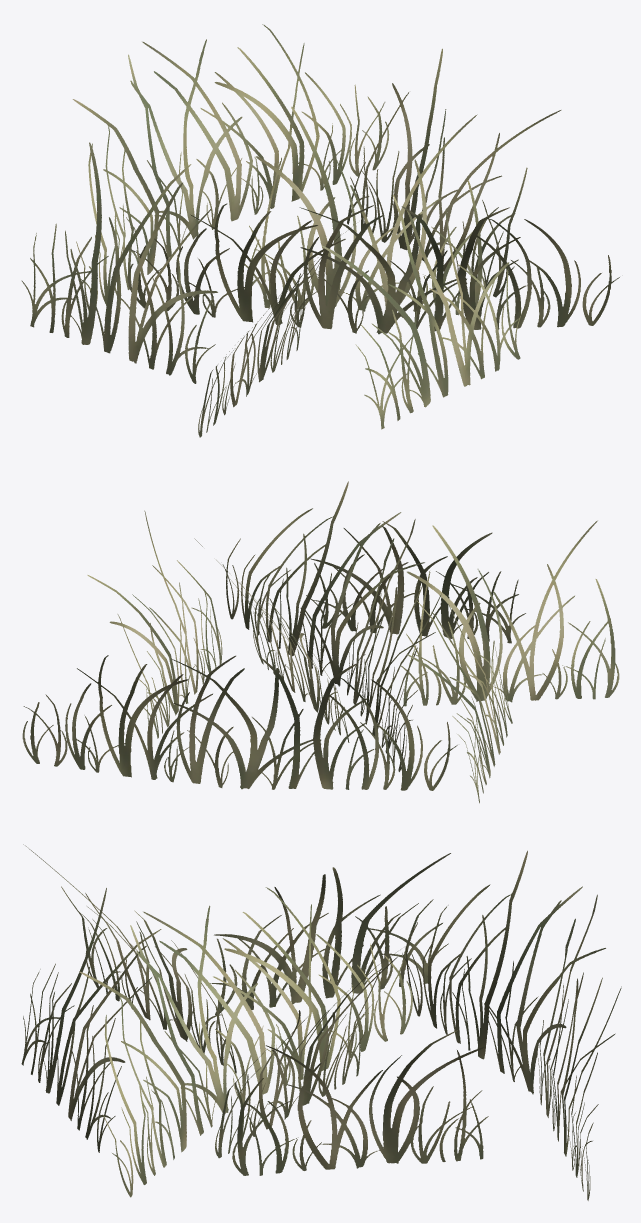
The model's file is Grass - Grass1 3-DiuZaRzb.glb.
3 renders of one model, top to bottom at view 1: azimuth 30°, elevation 25°; view 2: azimuth 150°, elevation 25°; view 3: azimuth 270°, elevation 25°, orthographic. The views are drawn at different scales.
Visible parts, largest first — view 1: Grass1_3_LOD0; view 2: Grass1_3_LOD0; view 3: Grass1_3_LOD0.
Part boxes in pixels (x1,y1,x2,y2): Grass1_3_LOD0: [21, 24, 619, 437]; Grass1_3_LOD0: [22, 481, 619, 803]; Grass1_3_LOD0: [21, 844, 621, 1200].
Size of the model in its own units: 0.9936 by 0.3827 by 1.09.
1 material, 1 textured.
